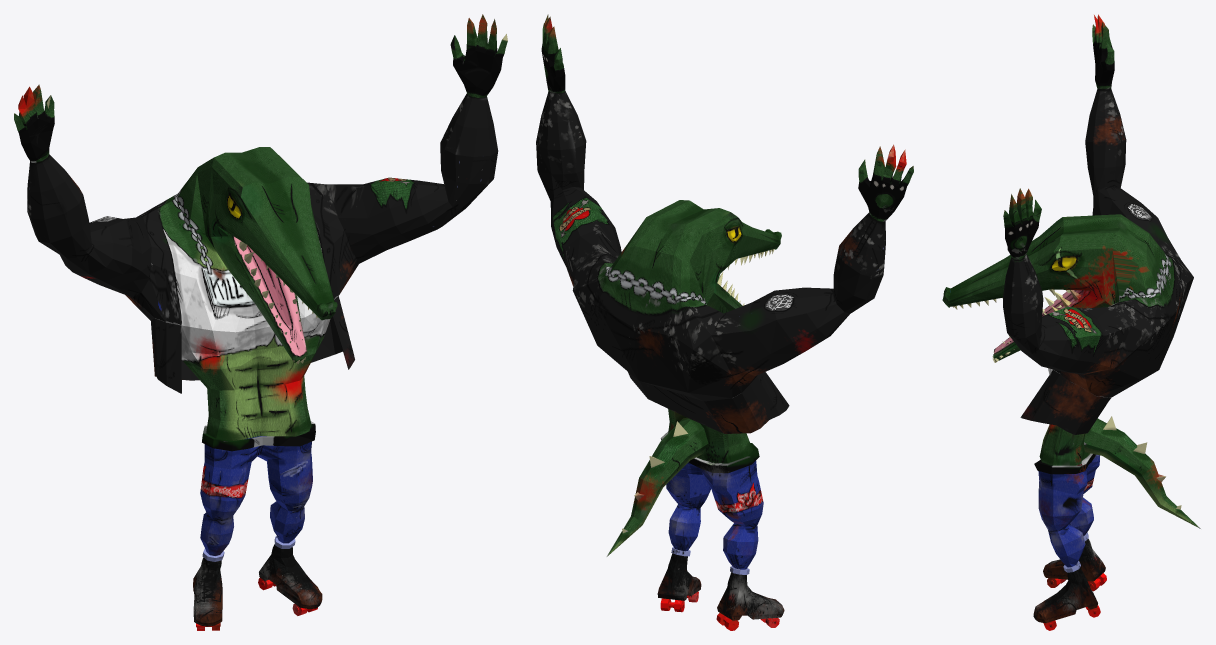
File: cocodrilaBonesSelect_000054.obj
The picture shows the model from 3 angles, left to right: view 1: azimuth 30°, elevation 25°; view 2: azimuth 150°, elevation 25°; view 3: azimuth 270°, elevation 25°; orthographic projection. The views are drawn at different scales.
Parts seen in each view (by area): view 1: Crocodile.002_Cylinder.002; view 2: Crocodile.002_Cylinder.002; view 3: Crocodile.002_Cylinder.002.
Part boxes in pixels (left/top/right/bottom): Crocodile.002_Cylinder.002: left=14, top=14, right=507, bottom=630; Crocodile.002_Cylinder.002: left=536, top=14, right=913, bottom=630; Crocodile.002_Cylinder.002: left=942, top=14, right=1200, bottom=630.
Bounding box in the file's own units: 6.9 × 8.5 × 3.92.
